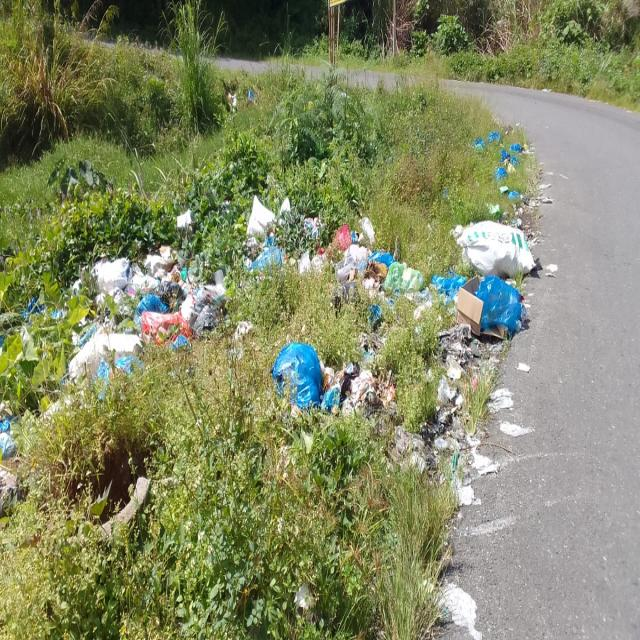trash: (2, 109, 576, 640)
